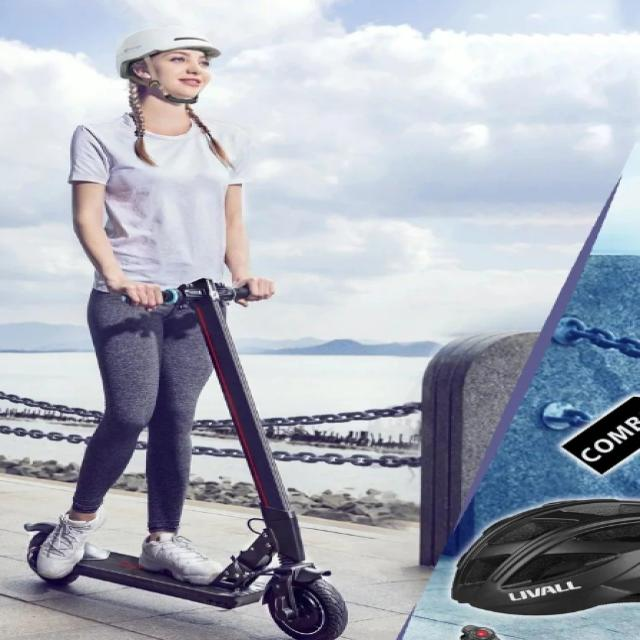helmet: (10, 33, 377, 637)
